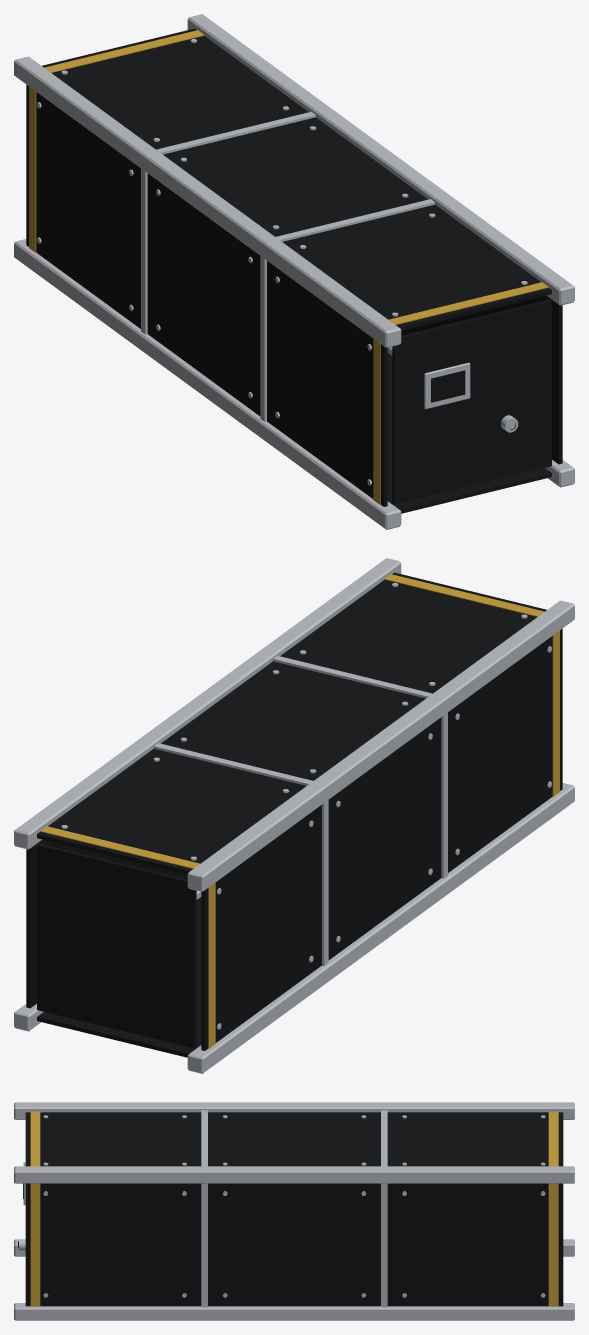
File: bus_cubesat_1u_3u.glb
The picture shows the model from 3 angles, top to bottom: view 1: azimuth 30°, elevation 25°; view 2: azimuth 150°, elevation 25°; view 3: azimuth 270°, elevation 25°; orthographic projection. The views are drawn at different scales.
Parts seen in each view (by area): view 1: bus_frame, mli_blanket; view 2: bus_frame, mli_blanket; view 3: bus_frame, mli_blanket.
Boxes of the visible parts, x1,y1,x2,y2 form: bus_frame: [14, 14, 574, 529]; mli_blanket: [29, 30, 548, 504]; bus_frame: [14, 558, 574, 1073]; mli_blanket: [40, 574, 559, 1048]; bus_frame: [14, 1102, 574, 1320]; mli_blanket: [30, 1111, 558, 1306].
Size of the model in its own units: 0.1 by 0.1 by 0.34.
